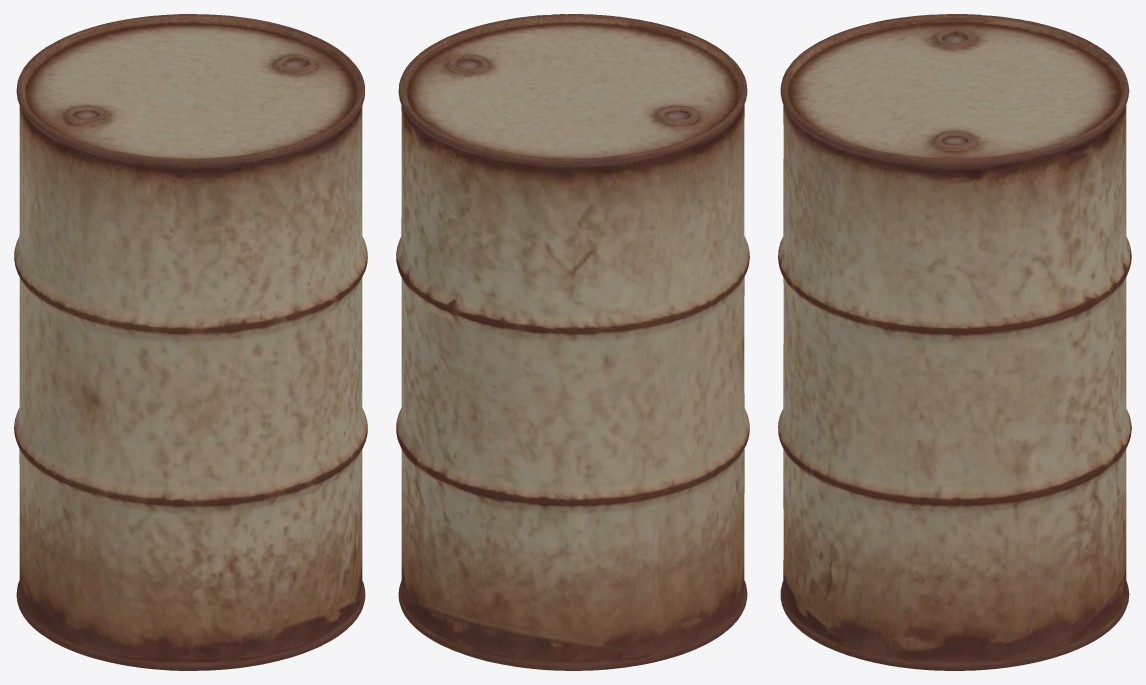
Rendered from prop_barrel.glb.
3 views of the same model, side by side, from view 1: azimuth 30°, elevation 25°; view 2: azimuth 150°, elevation 25°; view 3: azimuth 270°, elevation 25° (orthographic).
Visible parts, largest first — view 1: Mesh_0; view 2: Mesh_0; view 3: Mesh_0.
Part boxes in pixels (x1,y1,x2,y2): Mesh_0: (14,14,367,670); Mesh_0: (396,14,749,670); Mesh_0: (778,14,1131,670).
Bounding box in the file's own units: 1.2 × 1.91 × 1.2.
1 material, 1 textured.
